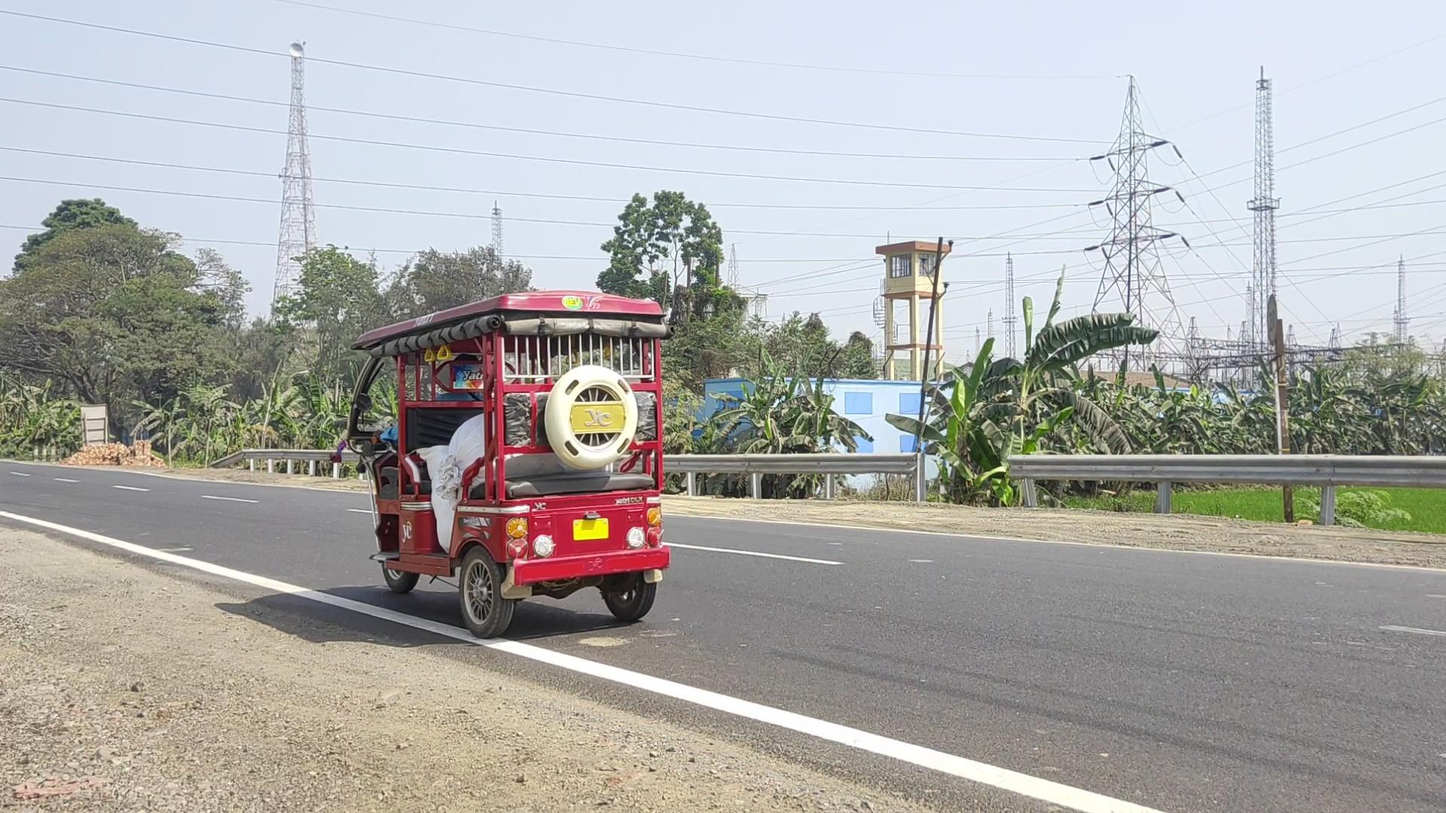Auto: (346, 290, 671, 639)
